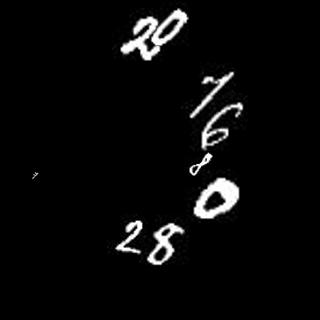eight: (149, 223, 185, 266), (185, 154, 216, 182)
seven: (186, 68, 231, 122), (30, 168, 41, 182)
six: (202, 104, 248, 152)
two: (121, 16, 161, 64), (114, 215, 147, 253)
zero: (190, 176, 237, 222), (153, 11, 189, 44)
